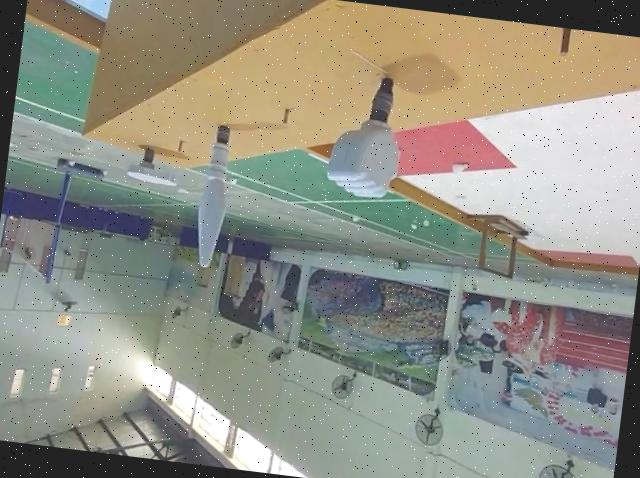Hand: (124, 146, 177, 188)
Sph: (322, 71, 411, 206), (187, 121, 240, 273)
